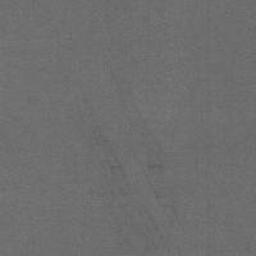Water spot: (148, 163, 169, 199), (109, 161, 125, 177), (132, 104, 142, 119)
